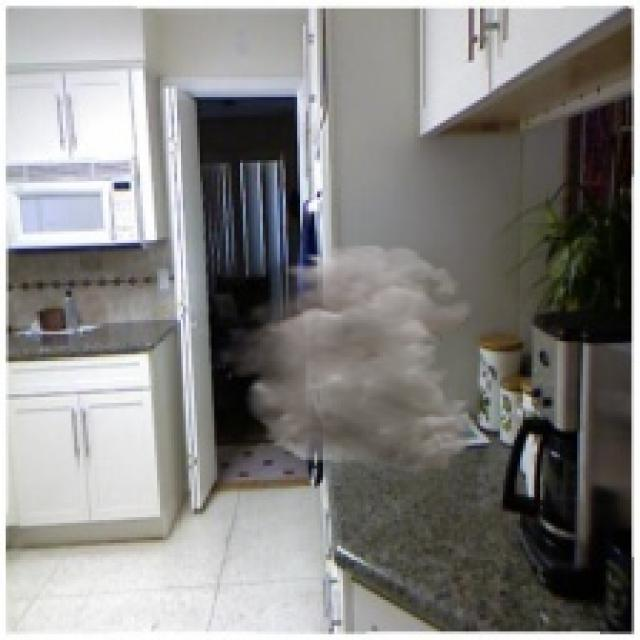Smoke: (215, 243, 480, 474)
